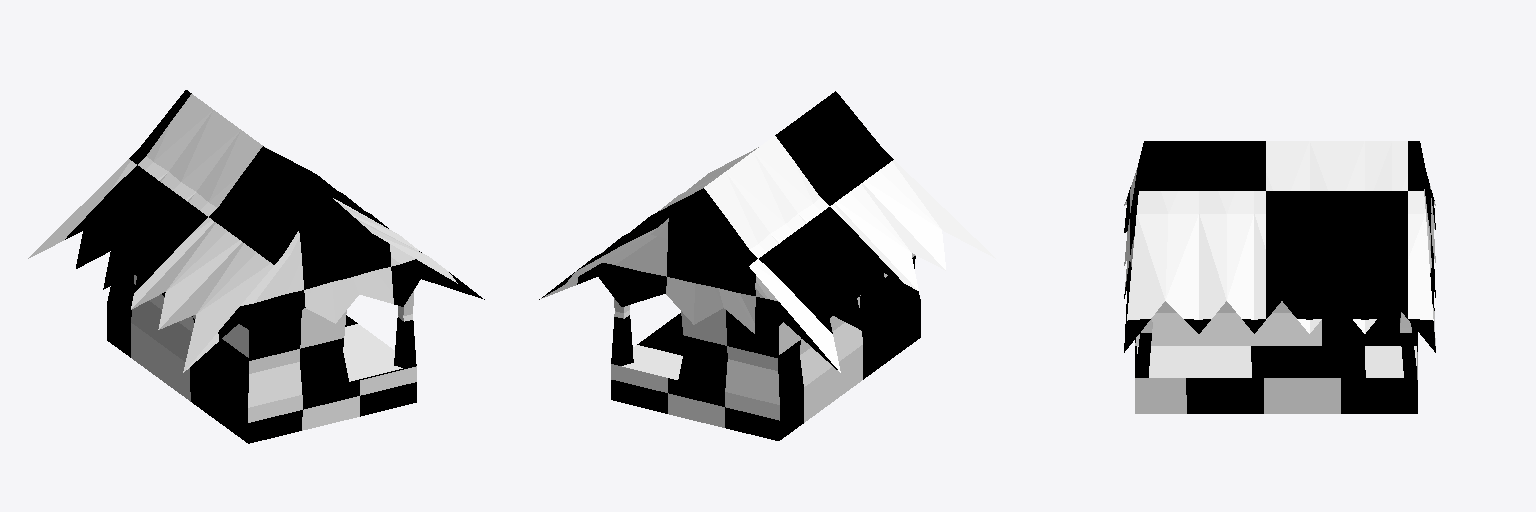
3 views of the same model, side by side, from view 1: azimuth 30°, elevation 25°; view 2: azimuth 150°, elevation 25°; view 3: azimuth 270°, elevation 25° (orthographic).
Parts seen in each view (by area): view 1: Box001; view 2: Box001; view 3: Box001.
Part boxes in pixels (x1,y1,x2,y2): Box001: (28,90,484,443); Box001: (539,91,995,440); Box001: (1124,141,1435,413).
Bounding box in the file's own units: 67.54 × 49.27 × 60.4.
1 materials, 1 textured.